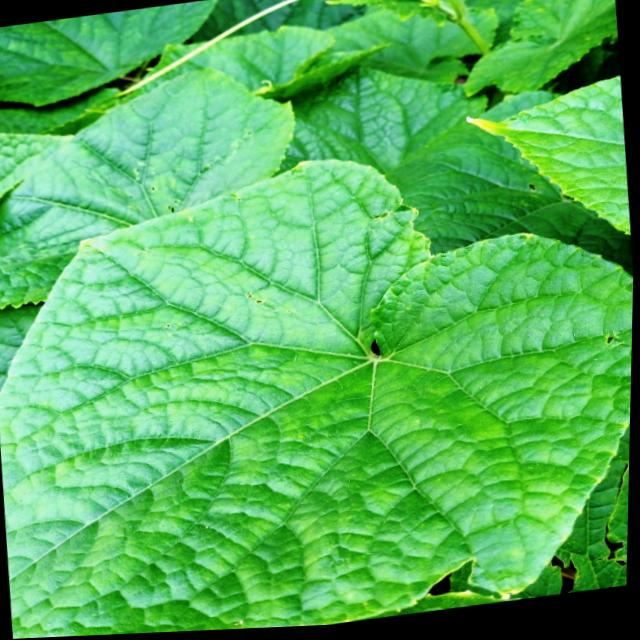Fresh-Leaf: (0, 157, 633, 639)
